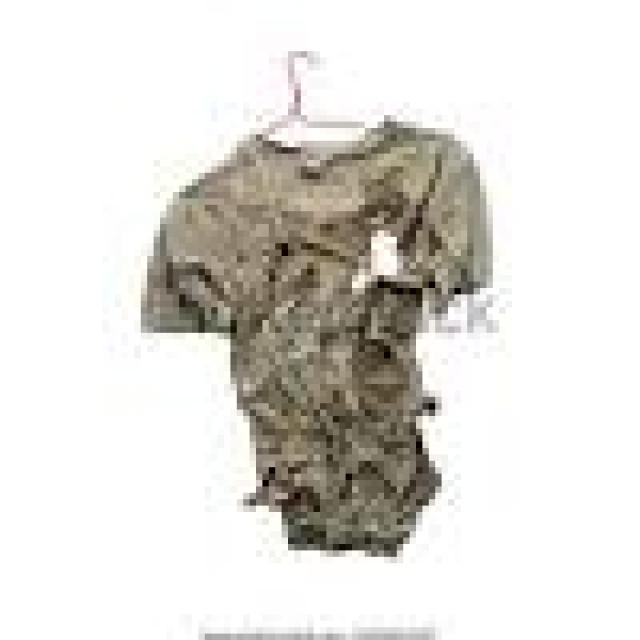Clothes -Biodegradable-: (141, 124, 499, 559)
